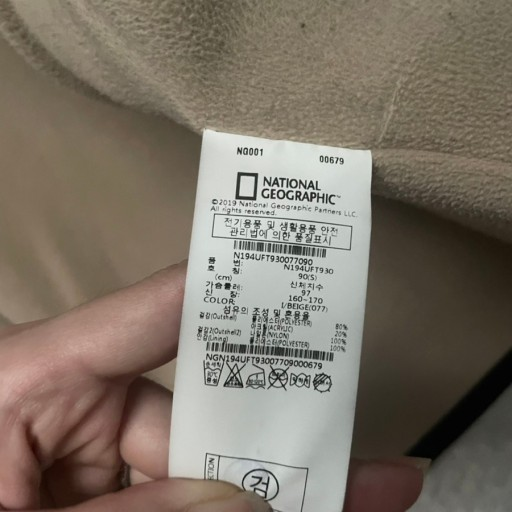KR_flat_dry_in_shade: (312, 370, 332, 394)
KR_gentle_wring: (289, 370, 311, 390)
KR_hand_wash_30_neutral: (200, 361, 224, 387)
KR_iron_low_temp_with_cloth: (245, 365, 265, 389)
KR_no_chlorine_bleach: (223, 363, 246, 388)
KR_no_dry_clean: (266, 367, 289, 390)
